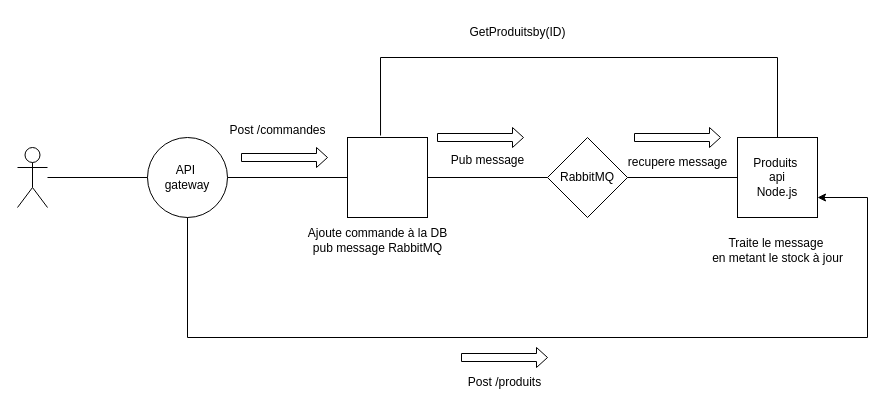
The diagram is 893 pixels wide and 414 high, and some of its shapes have lost their labels. Each missing label, with the box of its shape:
Actor: (16, 146, 48, 208)
Commandes api FastApi: (346, 136, 428, 218)
